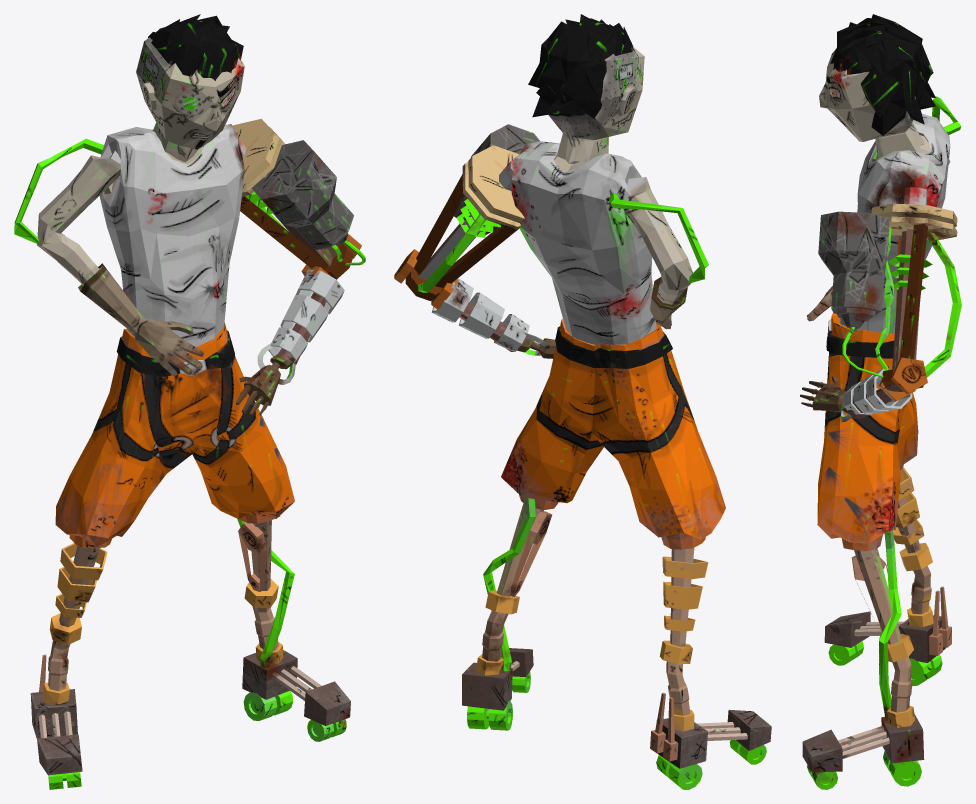
The model's file is CyborgFINALAnimation_000024.obj.
3 renders of one model, left to right at view 1: azimuth 30°, elevation 25°; view 2: azimuth 150°, elevation 25°; view 3: azimuth 270°, elevation 25°, orthographic.
Visible parts, largest first — view 1: CyborgMesh_Cube.002; view 2: CyborgMesh_Cube.002; view 3: CyborgMesh_Cube.002.
Boxes of the visible parts, x1=… form: CyborgMesh_Cube.002: x1=14, y1=14, x2=365, y2=789; CyborgMesh_Cube.002: x1=394, y1=14, x2=771, y2=789; CyborgMesh_Cube.002: x1=800, y1=14, x2=961, y2=789.
Size of the model in its own units: 4.78 by 9.6 by 1.97.
